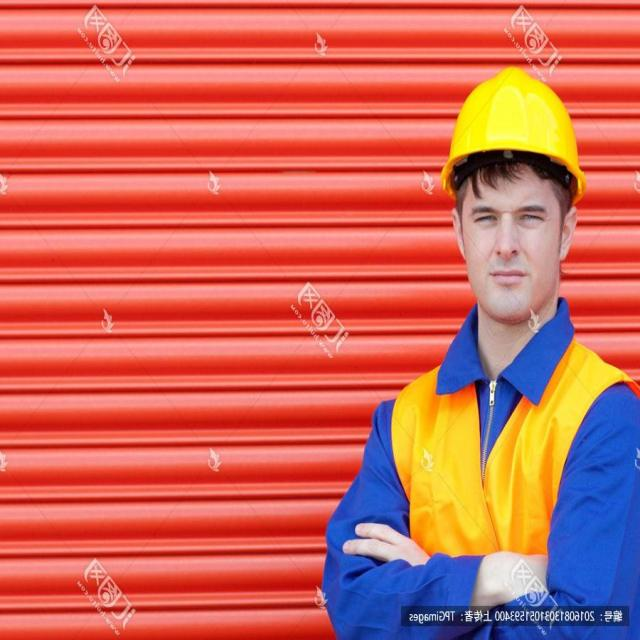Reflective-Jacket: (386, 333, 638, 568)
Safety-Helmet: (437, 64, 591, 200)
